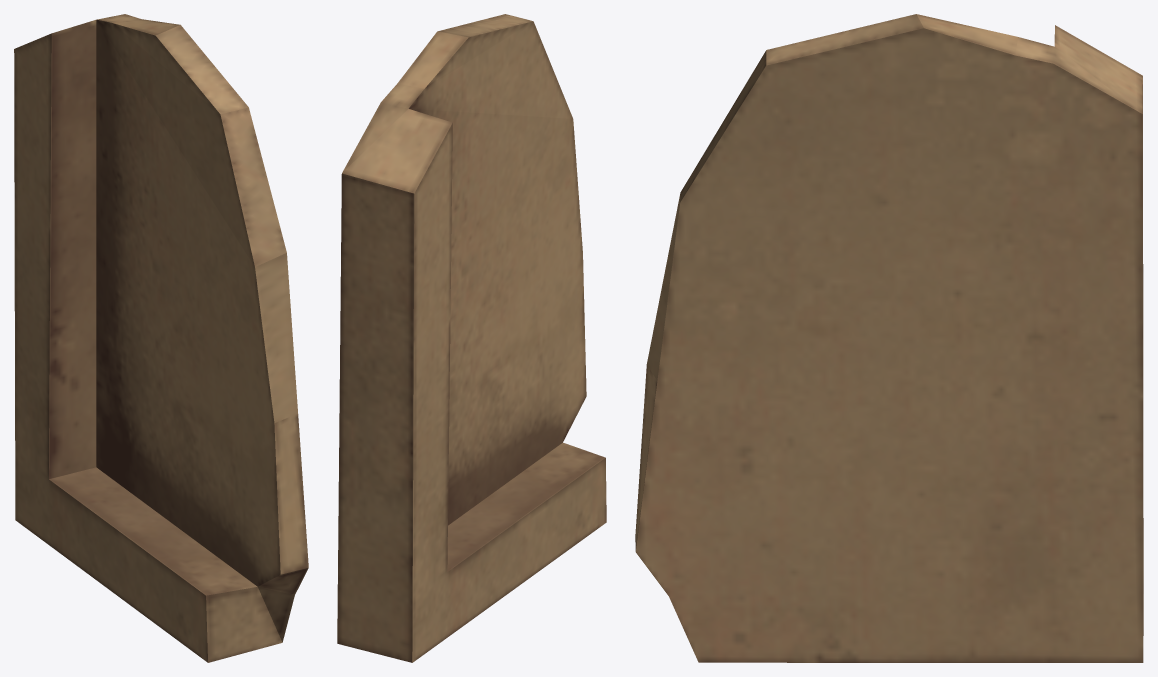
File: Puzzle 1 Piece Tablet .fbx
3 views of the same model, side by side, from view 1: azimuth 30°, elevation 25°; view 2: azimuth 150°, elevation 25°; view 3: azimuth 270°, elevation 25° (orthographic). The views are drawn at different scales.
Visible parts, largest first — view 1: Cube.012; view 2: Cube.012; view 3: Cube.012.
Boxes of the visible parts, <box> form: Cube.012: <box>14,14,308,662</box>; Cube.012: <box>337,14,606,662</box>; Cube.012: <box>635,14,1143,662</box>.
Size of the model in its own units: 42.91 by 289 by 210.
Materials: 1 (1 with a texture image).
